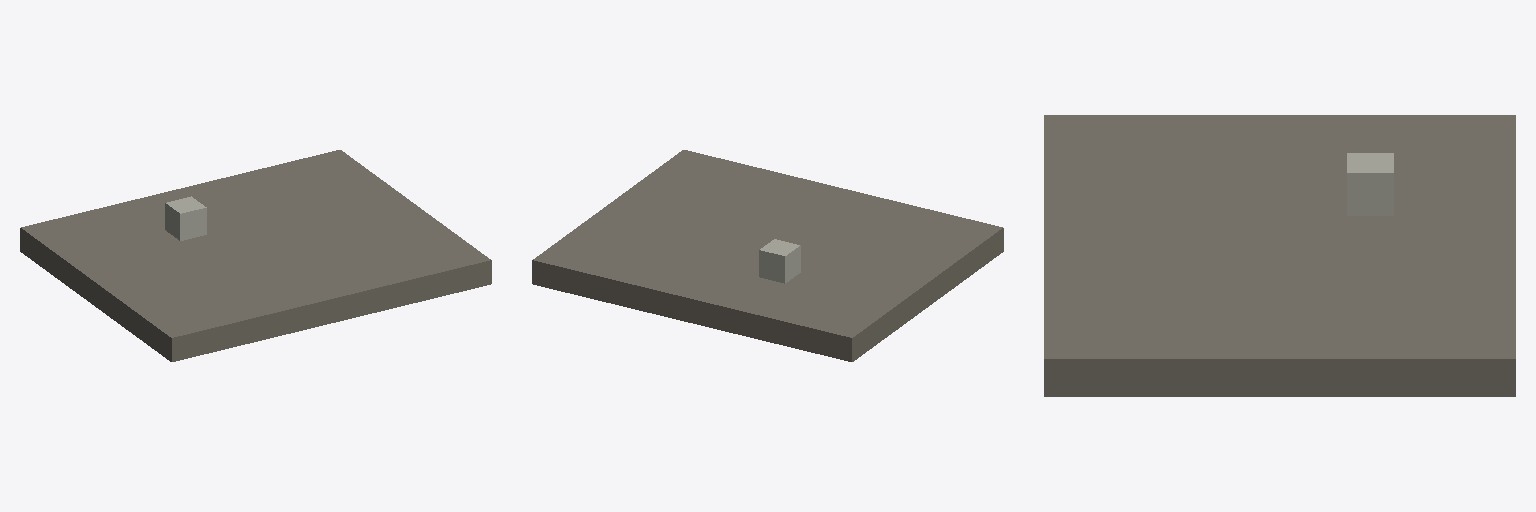
The robot description file, URDF, robot "parttoolgen_hammer_single_cube":
<?xml version="1.0"?>
<robot name="parttoolgen_hammer_single_cube">
  <link name="table_with_target_cube">
    <visual>
      <material name="wood">
        <color rgba="0.52 0.50 0.46 1.0"/>
      </material>
      <origin xyz="0 0 0"/>
      <geometry>
        <box size="0.55 0.45 0.04"/>
      </geometry>
    </visual>
    <collision>
      <origin xyz="0 0 0"/>
      <geometry>
        <box size="0.55 0.45 0.04"/>
      </geometry>
    </collision>

    <visual>
      <material name="target_cube">
        <color rgba="0.72 0.72 0.68 1.0"/>
      </material>
      <origin xyz="-0.07043986629527174 0.08643542212619118 0.042499999999999996"/>
      <geometry>
        <box size="0.045 0.045 0.045"/>
      </geometry>
    </visual>
    <collision>
      <origin xyz="-0.07043986629527174 0.08643542212619118 0.042499999999999996"/>
      <geometry>
        <box size="0.045 0.045 0.045"/>
      </geometry>
    </collision>

    <inertial>
      <mass value="500"/>
      <friction value="1.0"/>
      <inertia ixx="1000.0" ixy="0.0" ixz="0.0" iyy="1000.0" iyz="0.0" izz="1000.0"/>
    </inertial>
  </link>
</robot>

--- Facts derived from the render (not from the file) ---
The picture shows the robot from 3 angles, left to right: view 1: azimuth 30°, elevation 25°; view 2: azimuth 150°, elevation 25°; view 3: azimuth 270°, elevation 25°; orthographic projection.
Model parttoolgen_hammer_single_cube with 1 links and 0 joints (none), rooted at table_with_target_cube, posed every joint at zero.
Visible links, largest first — view 1: table_with_target_cube; view 2: table_with_target_cube; view 3: table_with_target_cube.
Boxes of the visible links, <box> form: table_with_target_cube: <box>20,150,491,361</box>; table_with_target_cube: <box>532,150,1003,361</box>; table_with_target_cube: <box>1044,115,1515,396</box>.
Size in the robot's own frame: 0.55 by 0.45 by 0.085 metres.
Geometry: primitives only (box / cylinder / sphere), no mesh files.
